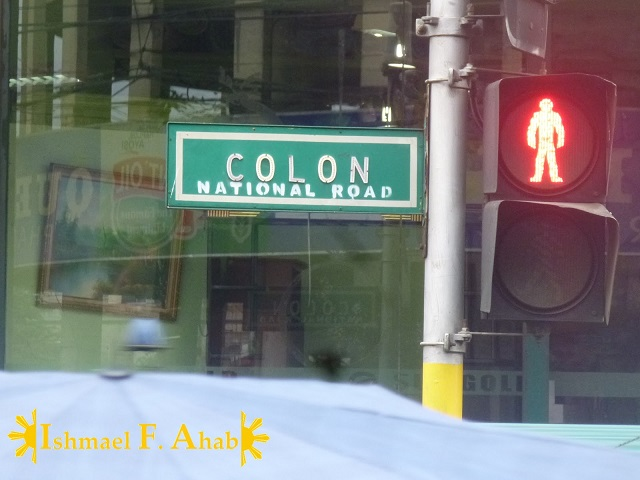pole: (421, 4, 470, 417)
traffic light: (484, 73, 617, 328)
